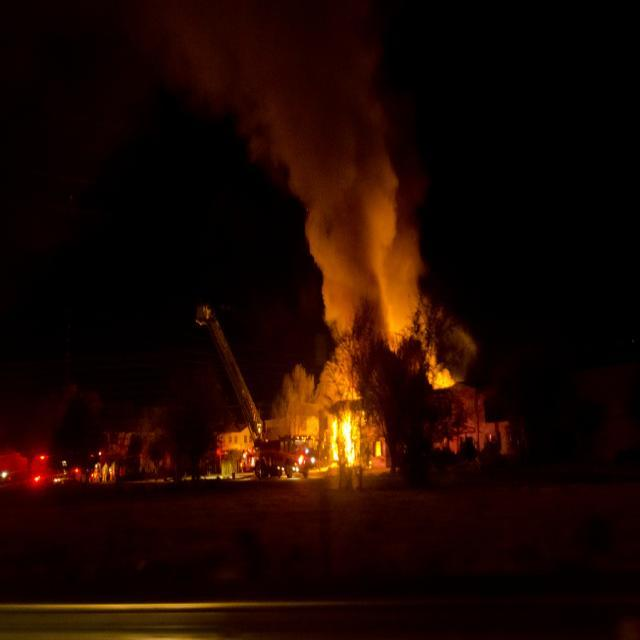Fire: (334, 416, 359, 469)
